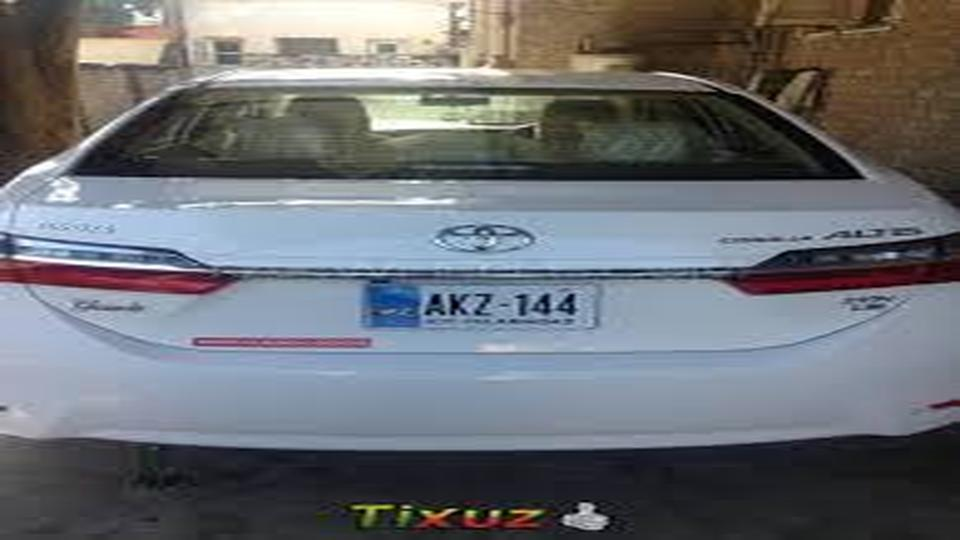NumberPlate: (365, 271, 597, 334)
